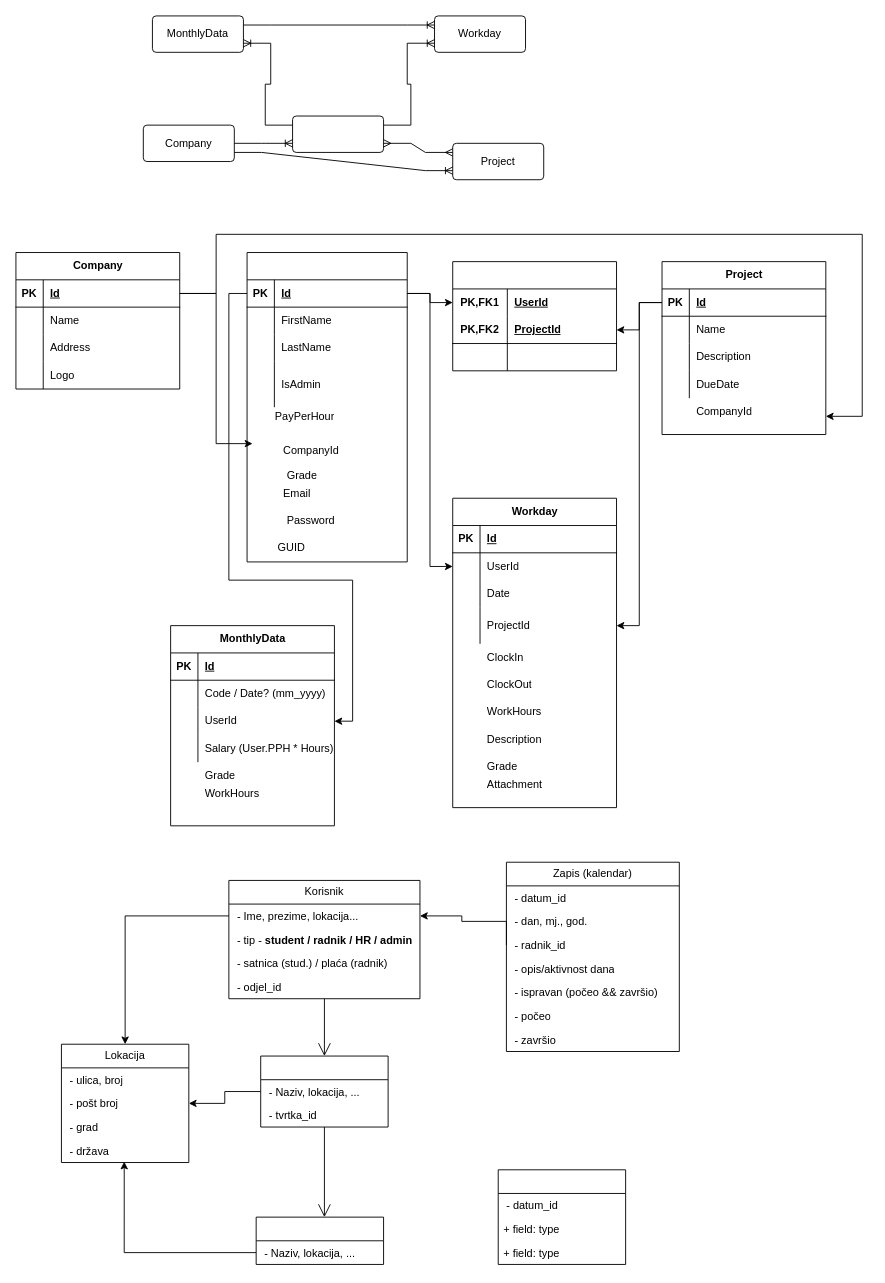
Some shapes in this 885 by 1283 pixel diagram are drawn without their labels. The box of each missing label's shape, as (x1, y1, x2, y2) in pixels:
dokumenti: (497, 1169, 626, 1264)
Odjel: (260, 1055, 388, 1127)
Tvrtka: (255, 1216, 384, 1264)
User: (246, 252, 407, 562)
User (Worker/Admin): (292, 115, 384, 152)
UsersProjects: (452, 261, 617, 371)
